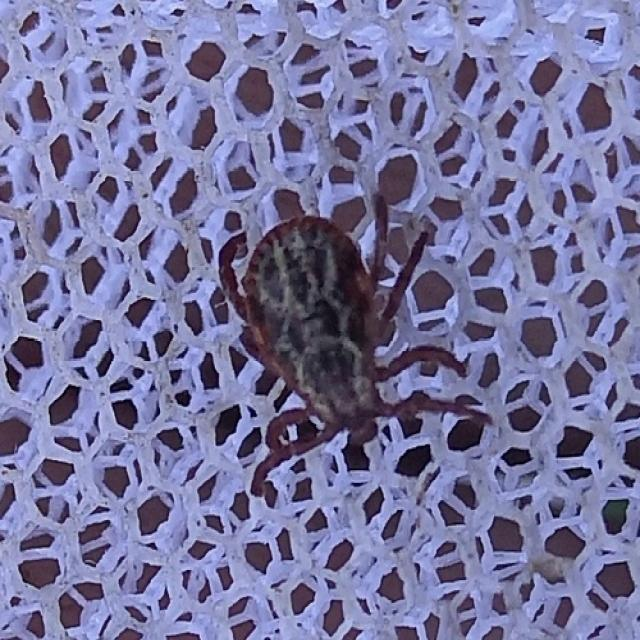Dermacentor Reticulatus-M: (220, 194, 494, 510)
